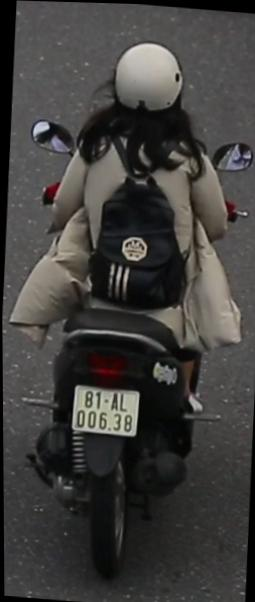LP: (68, 380, 142, 441)
helmet: (106, 33, 188, 155)
